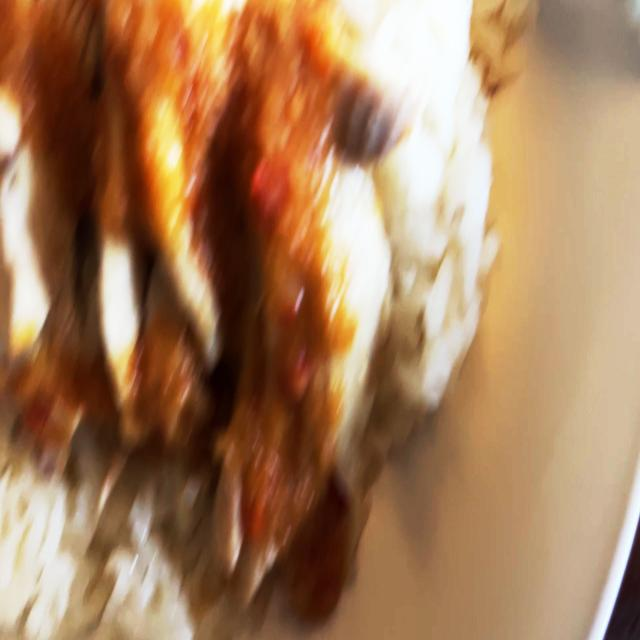boiled_chicken: (0, 0, 415, 551)
chicken_rice: (0, 0, 535, 640)
